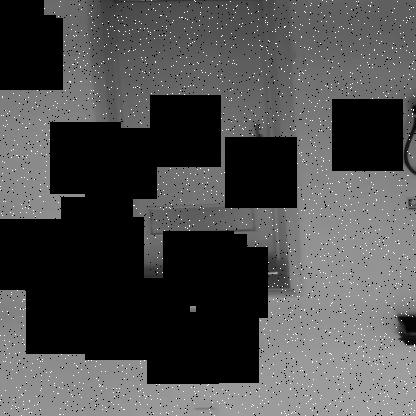Porte: (88, 0, 306, 304)
